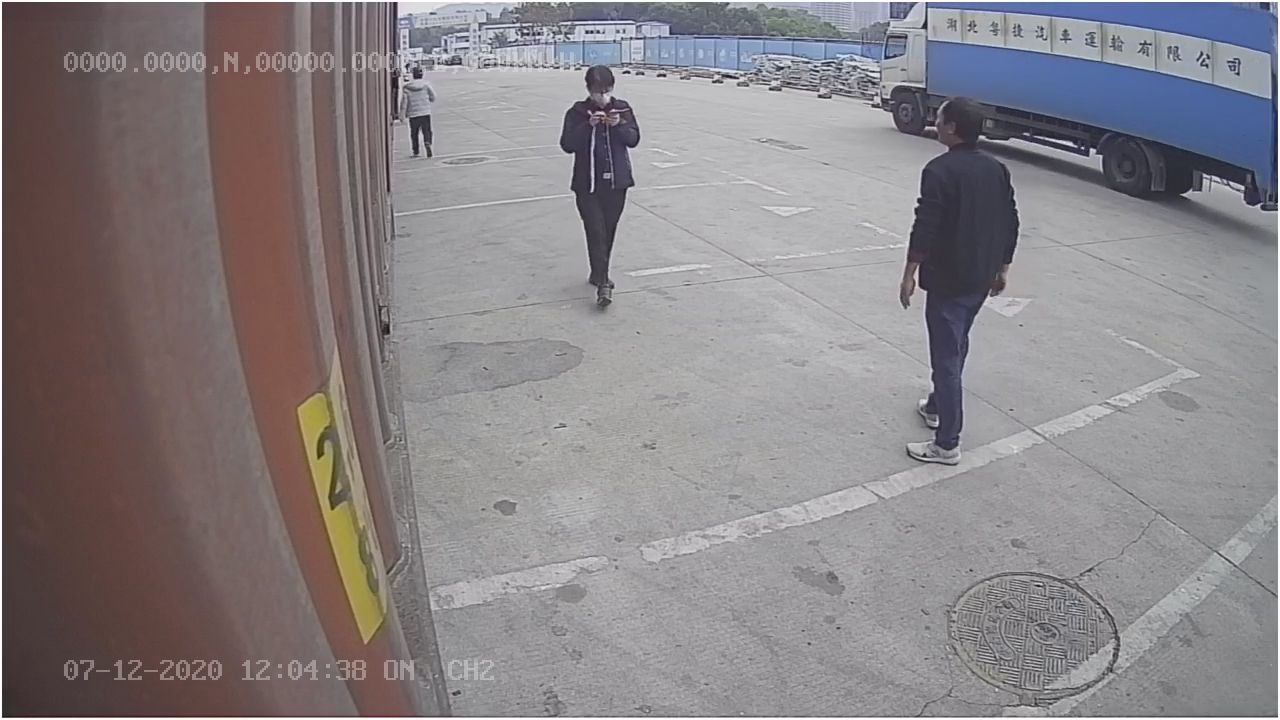person: (557, 61, 640, 310)
